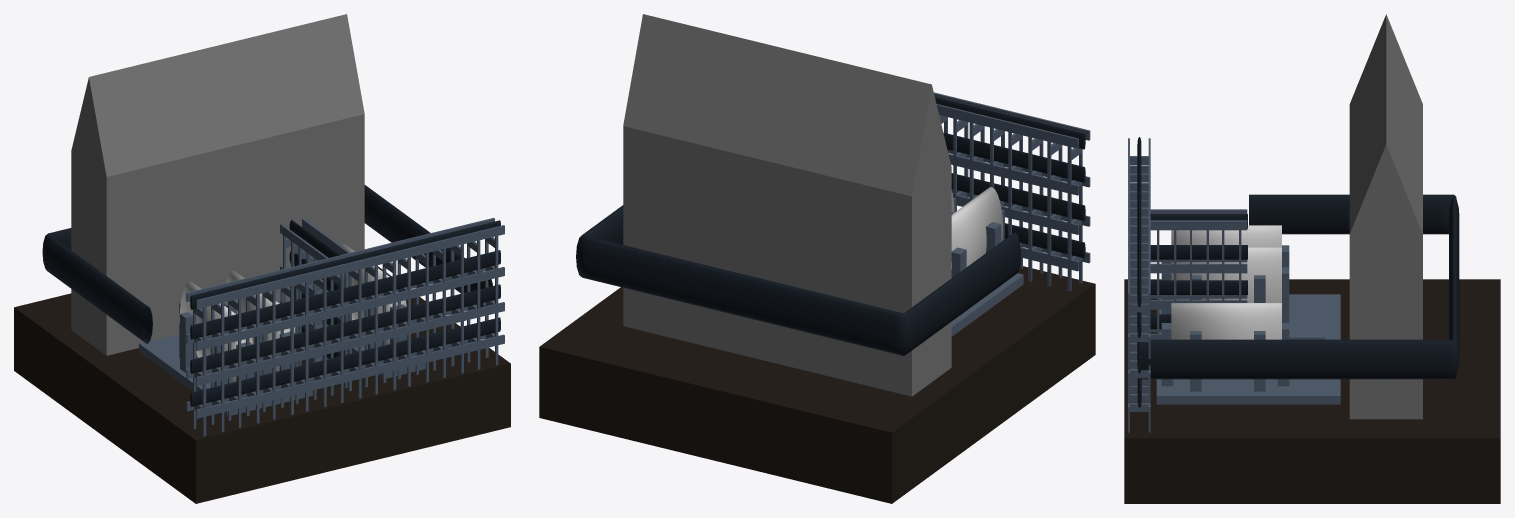
The model's file is Refrigerant Storage_cube.fbx.
3 renders of one model, left to right at view 1: azimuth 30°, elevation 25°; view 2: azimuth 150°, elevation 25°; view 3: azimuth 270°, elevation 25°, orthographic. The views are drawn at different scales.
Visible parts, largest first — view 1: RefrigerantStorage_cube; view 2: RefrigerantStorage_cube; view 3: RefrigerantStorage_cube.
Part boxes in pixels (left/top/right/bottom): RefrigerantStorage_cube: left=14, top=14, right=510, bottom=503; RefrigerantStorage_cube: left=539, top=14, right=1095, bottom=503; RefrigerantStorage_cube: left=1124, top=14, right=1500, bottom=503.
Size of the model in its own units: 100 by 100 by 100.
